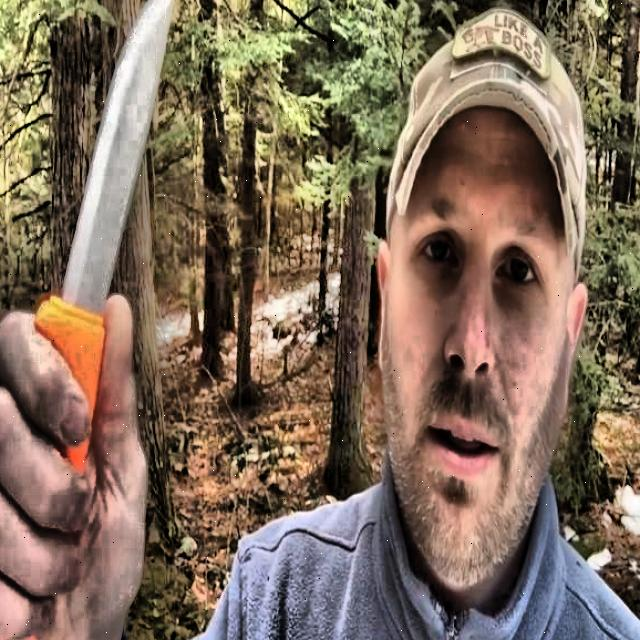knife: (0, 0, 177, 640)
